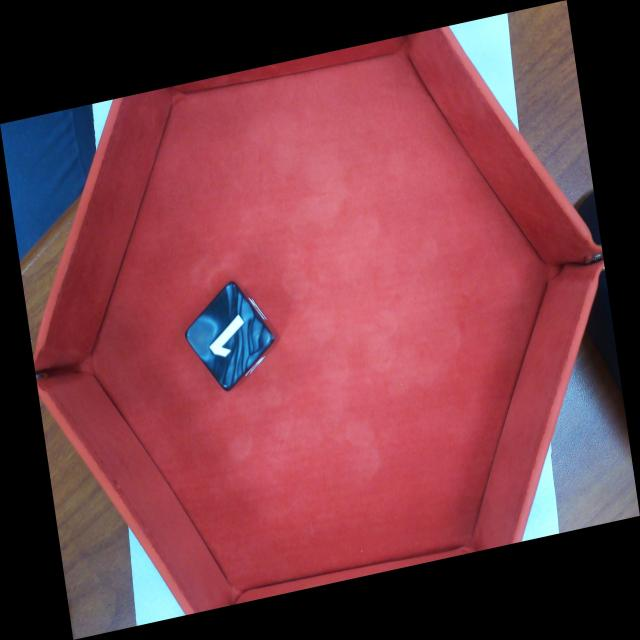dice: (186, 282, 278, 393)
